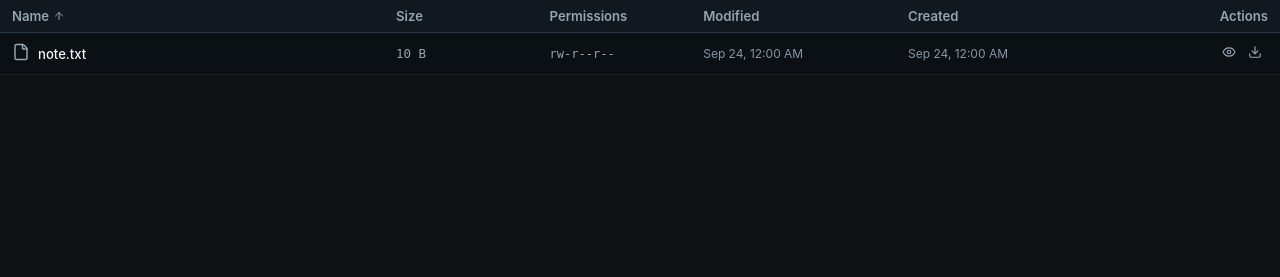
Test case: touch context menus › opens the file context menu from a long press on the row without an extra button
Step 1. Press the mouse on the row "note.txt 10 B rw-r--r-- Sep 24, 12:00 AM Sep 24, 12:00 AM" → [640, 54], box [0, 32, 1279, 74]
Wait 500 ms
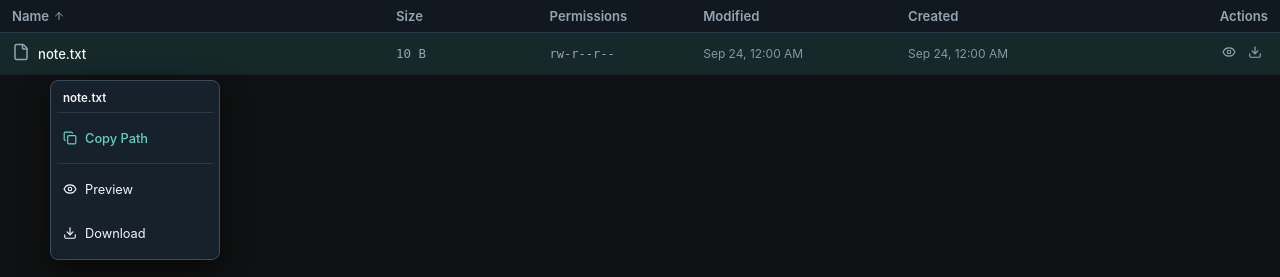
Result: the element with class "fm-context-menu" shows "Copy Path" at [55, 116, 215, 160]
